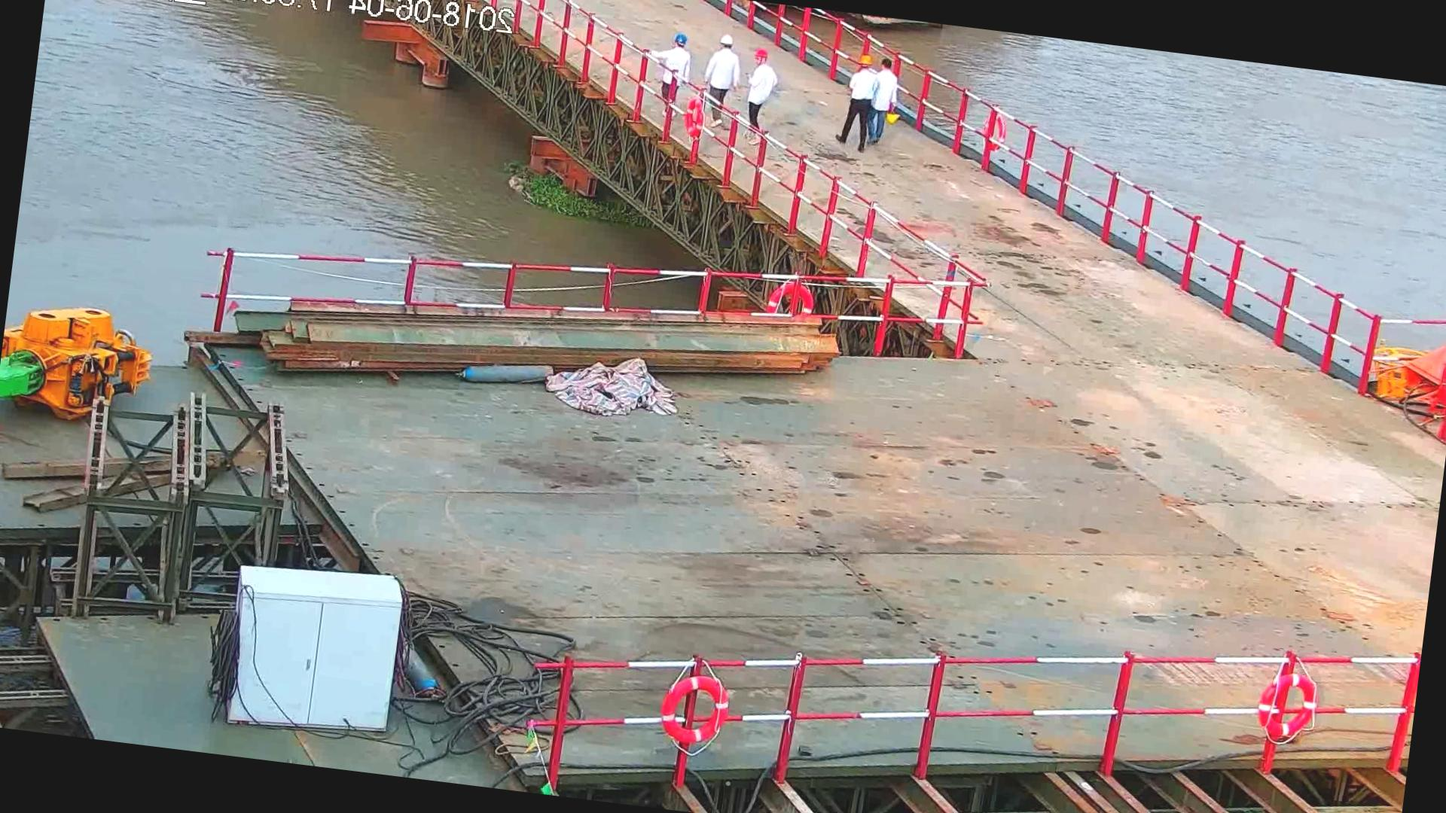person: (735, 44, 787, 145), (698, 29, 747, 126), (645, 27, 699, 112), (860, 53, 906, 148), (838, 50, 877, 150)
